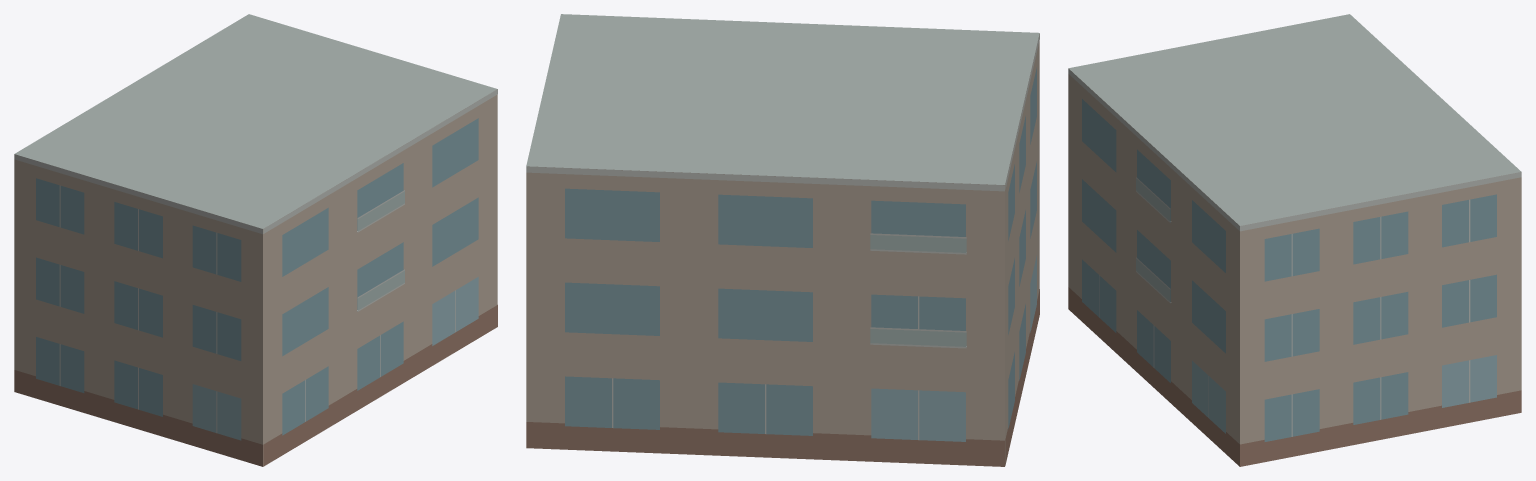
Rendered from survey-upis-32826156.glb.
3 views of the same model, side by side, from view 1: azimuth 30°, elevation 25°; view 2: azimuth 150°, elevation 25°; view 3: azimuth 270°, elevation 25° (orthographic). The views are drawn at different scales.
Parts seen in each view (by area): view 1: survey-upis-32826156.tmp; view 2: survey-upis-32826156.tmp; view 3: survey-upis-32826156.tmp.
Part boxes in pixels (box(x1,y1,x2,y2)): survey-upis-32826156.tmp: box(14, 14, 497, 466); survey-upis-32826156.tmp: box(526, 14, 1039, 466); survey-upis-32826156.tmp: box(1068, 14, 1521, 466).
Size of the model in its own units: 20.69 by 10.95 by 18.69.
